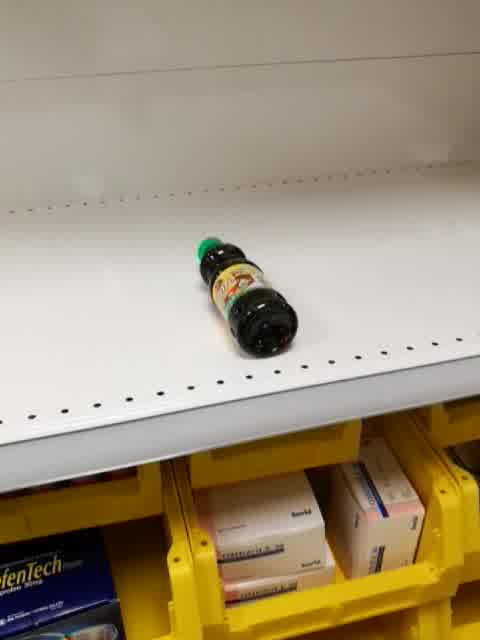cookingoil: (195, 234, 301, 361)
